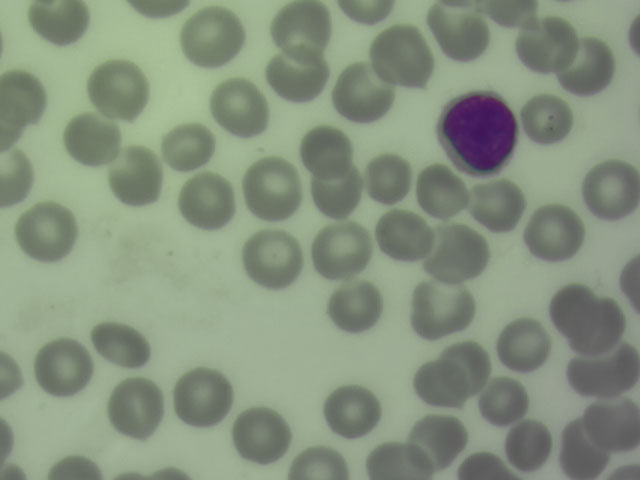RBC: (564, 347, 640, 395), (361, 440, 432, 480), (176, 370, 227, 424), (109, 381, 160, 435), (89, 319, 140, 373), (236, 410, 287, 464), (414, 411, 465, 465), (330, 382, 381, 436), (504, 414, 555, 468), (445, 338, 496, 392), (499, 316, 550, 370), (562, 425, 613, 479), (589, 392, 640, 446), (417, 283, 468, 337), (532, 204, 583, 258), (587, 161, 638, 215), (471, 179, 522, 233), (563, 37, 614, 91), (523, 16, 574, 70), (23, 203, 74, 257), (415, 162, 466, 216), (439, 225, 490, 279), (378, 210, 429, 264), (328, 281, 379, 335), (315, 224, 366, 278), (363, 150, 414, 204), (313, 162, 364, 216), (301, 124, 352, 178), (336, 64, 387, 118), (378, 29, 429, 83), (276, 49, 327, 103), (278, 3, 329, 57), (38, 340, 89, 394), (246, 230, 297, 284), (248, 162, 299, 216), (215, 78, 266, 132), (186, 11, 237, 65), (183, 171, 234, 225), (164, 120, 215, 174), (109, 147, 160, 201), (63, 114, 114, 168), (92, 61, 143, 115), (436, 1, 487, 54), (1, 71, 50, 125), (481, 381, 531, 426), (415, 364, 465, 409), (1, 146, 35, 207), (548, 287, 595, 330), (529, 95, 572, 139), (31, 1, 81, 38), (576, 308, 624, 344), (287, 453, 349, 480), (457, 450, 511, 480), (48, 451, 97, 480), (1, 340, 24, 400), (128, 1, 194, 21), (486, 1, 535, 25), (342, 1, 389, 24)
WBC: (435, 87, 524, 174)
